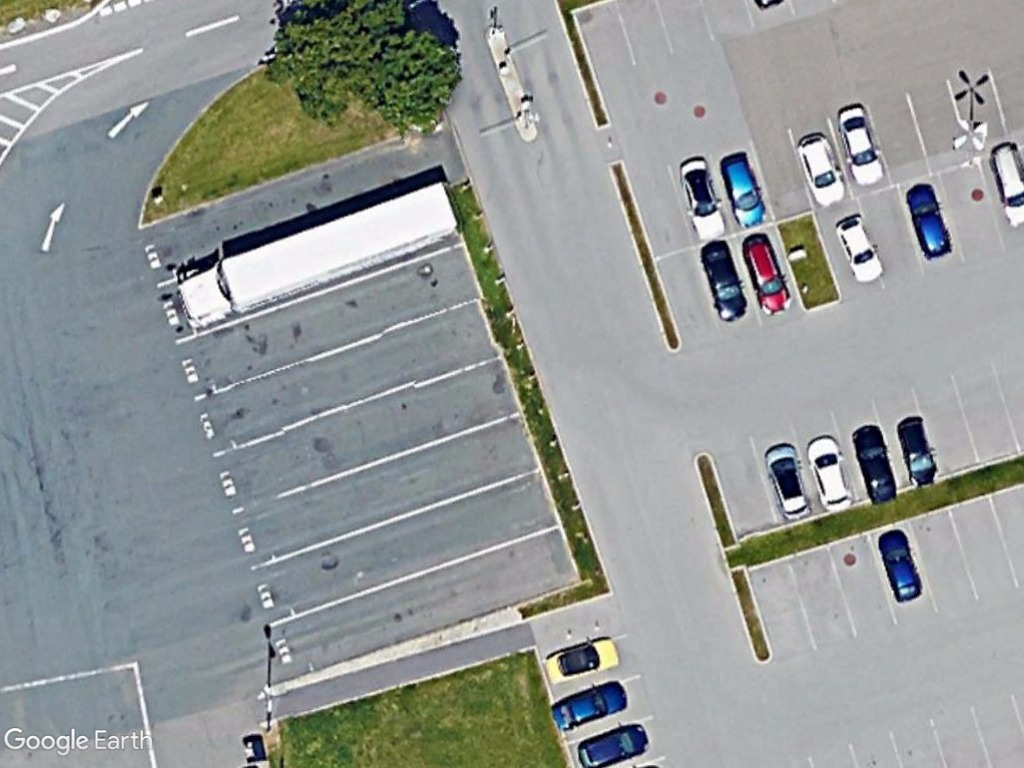car: (824, 100, 888, 194), (693, 237, 752, 325), (736, 232, 794, 318), (541, 627, 627, 684), (549, 676, 631, 735), (902, 179, 956, 264), (851, 421, 902, 508), (796, 128, 850, 210), (761, 439, 813, 524), (806, 429, 856, 516), (677, 153, 728, 237), (715, 147, 766, 230), (834, 210, 888, 287), (875, 528, 926, 607), (896, 411, 942, 490), (574, 722, 652, 768)
longvehicle: (170, 178, 458, 331)
